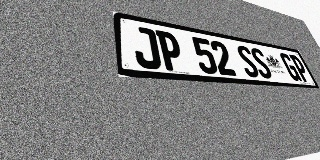2: (209, 40, 236, 76)
5: (191, 36, 220, 75)
G: (278, 52, 302, 81)
J: (131, 25, 162, 70)
P: (155, 30, 185, 72), (289, 54, 312, 82)
S: (235, 44, 261, 78), (248, 47, 274, 79)
